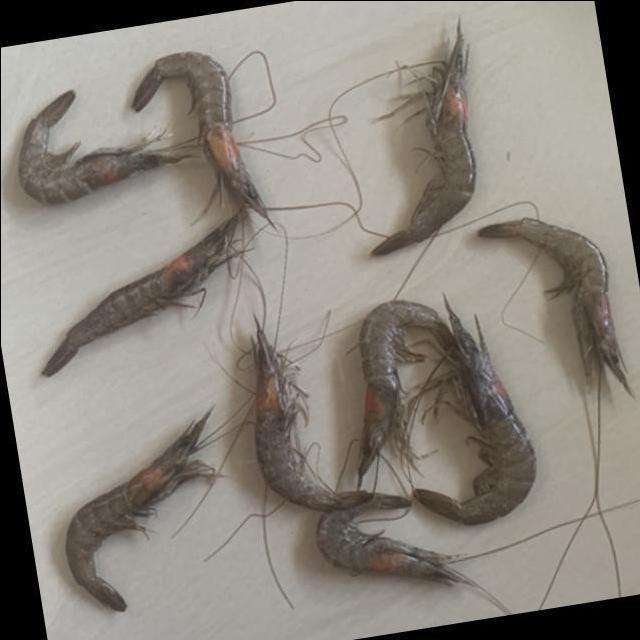shrimp: (40, 210, 240, 376), (63, 410, 213, 612), (251, 322, 410, 512), (414, 297, 536, 525), (479, 217, 632, 396), (371, 18, 475, 255), (131, 51, 267, 221), (316, 508, 510, 614), (16, 89, 187, 202), (357, 300, 455, 486)
